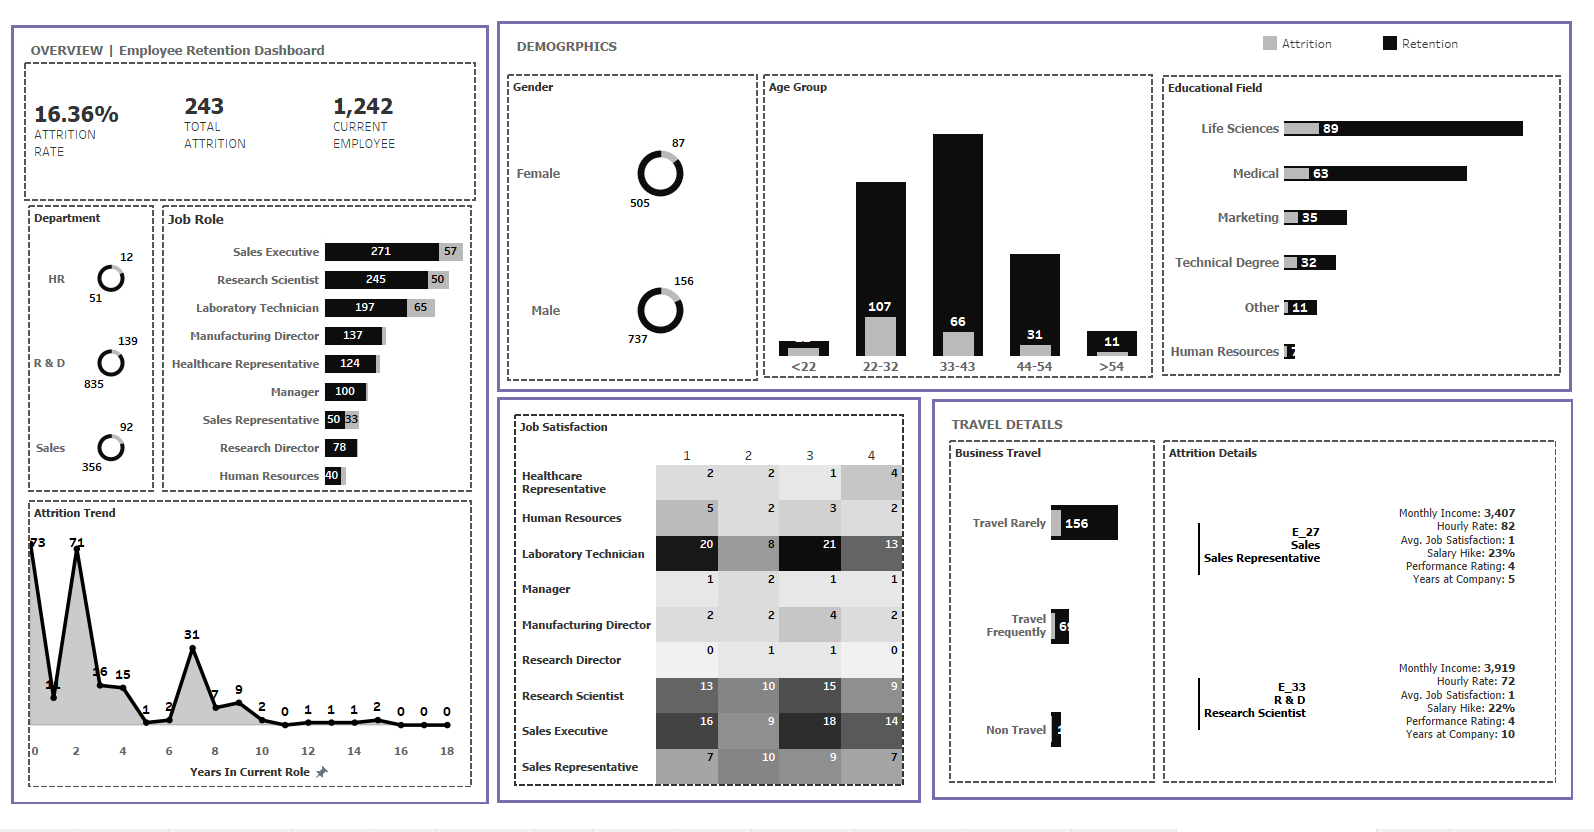

The page's visual inventory and layout, read from the dashboard file:
{"tool":"tableau","page":{"name":"Employee Retention Dashboard","canvas":[1000,1000],"units":"permille","ordinal":0},"visuals":[{"type":"legend","title":"Department","param":"[federated.0os1tkx17pfhpm0zn5vp01bdovg5].[none:Attrition:nk]","box":[791.2,41.4,185.8,44.4]},{"type":"text","box":[322.9,45.9,655.2,35.5]},{"type":"text","box":[19.1,50.3,282.3,35.5]},{"type":"worksheet","title":"Attrition Rate","mark":"Automatic","box":[20.3,88.8,93.2,199.7]},{"type":"worksheet","title":"Total Attrition","mark":"Automatic","box":[113.6,88.8,93.2,199.7]},{"type":"worksheet","title":"Current Employees","mark":"Automatic","box":[206.8,88.8,93.2,199.7]},{"type":"worksheet","title":"Gender ","mark":"Pie","rows":["Gender"],"cols":["Calculation_399131522618712067","Calculation_399131522618744837"],"box":[320.4,90.2,157,369.8]},{"type":"worksheet","title":"Age Group","mark":"Bar","rows":["EmployeeCount","Attrition Rate (copy)_399131522615308288"],"cols":["Age (bin)"],"box":[480.9,90.2,244.1,366.9]},{"type":"worksheet","title":"Educational Field","mark":"Bar","rows":["EducationField"],"cols":["EmployeeCount","Attrition Rate (copy)_399131522615308288"],"box":[730,91.7,249.1,362.4]},{"type":"worksheet","title":"Department","mark":"Pie","rows":["Department"],"cols":["Calculation_399131522618712067","Calculation_399131522618744837"],"box":[19.1,291.4,85.1,436.4]},{"type":"worksheet","title":"Job Role","mark":"Bar","rows":["JobRole"],"cols":["EmployeeCount"],"box":[104.2,291.4,197.1,436.4]},{"type":"worksheet","title":"Job Satisfaction","mark":"Square","rows":["JobRole"],"cols":["JobSatisfaction"],"box":[322.9,498.5,248.4,451.2]},{"type":"text","box":[594.3,501.5,384.5,35.5]},{"type":"worksheet","title":"Business Travel","mark":"Bar","rows":["BusinessTravel"],"cols":["EmployeeCount","Attrition Rate (copy)_399131522615308288"],"box":[594.3,537,136,409.8]},{"type":"worksheet","title":"Attrition Details","mark":"Automatic","rows":["EmployeeNumber"],"cols":["Calculation_1726004564117827585","Calculation_1726004564117975046","Calculation_1726004564117860357"],"box":[730.2,537,248.5,409.8]},{"type":"worksheet","title":"Attrition Trend","mark":"Line","rows":["Attrition Rate (copy)_399131522615308288","Attrition Rate (copy)_399131522615308288"],"cols":["YearsInCurrentRole"],"box":[19.1,727.8,282.3,223.4]}]}

Visuals, with their boxes on the dashboard's canvas, which has no fixed pixel size, in thousandths of its width and height (x1, y1, x2, y2). These are canvas units, not pixel positions in the 1594x832 screenshot, which may show the page scaled, cropped or inside an application window:
"Department" legend: [791,41,977,86]
text: [323,46,978,81]
text: [19,50,301,86]
"Attrition Rate" worksheet: [20,89,114,288]
"Total Attrition" worksheet: [114,89,207,288]
"Current Employees" worksheet: [207,89,300,288]
"Gender " worksheet (Pie marks): [320,90,477,460]
"Age Group" worksheet (Bar marks): [481,90,725,457]
"Educational Field" worksheet (Bar marks): [730,92,979,454]
"Department" worksheet (Pie marks): [19,291,104,728]
"Job Role" worksheet (Bar marks): [104,291,301,728]
"Job Satisfaction" worksheet (Square marks): [323,498,571,950]
text: [594,502,979,537]
"Business Travel" worksheet (Bar marks): [594,537,730,947]
"Attrition Details" worksheet: [730,537,979,947]
"Attrition Trend" worksheet (Line marks): [19,728,301,951]
